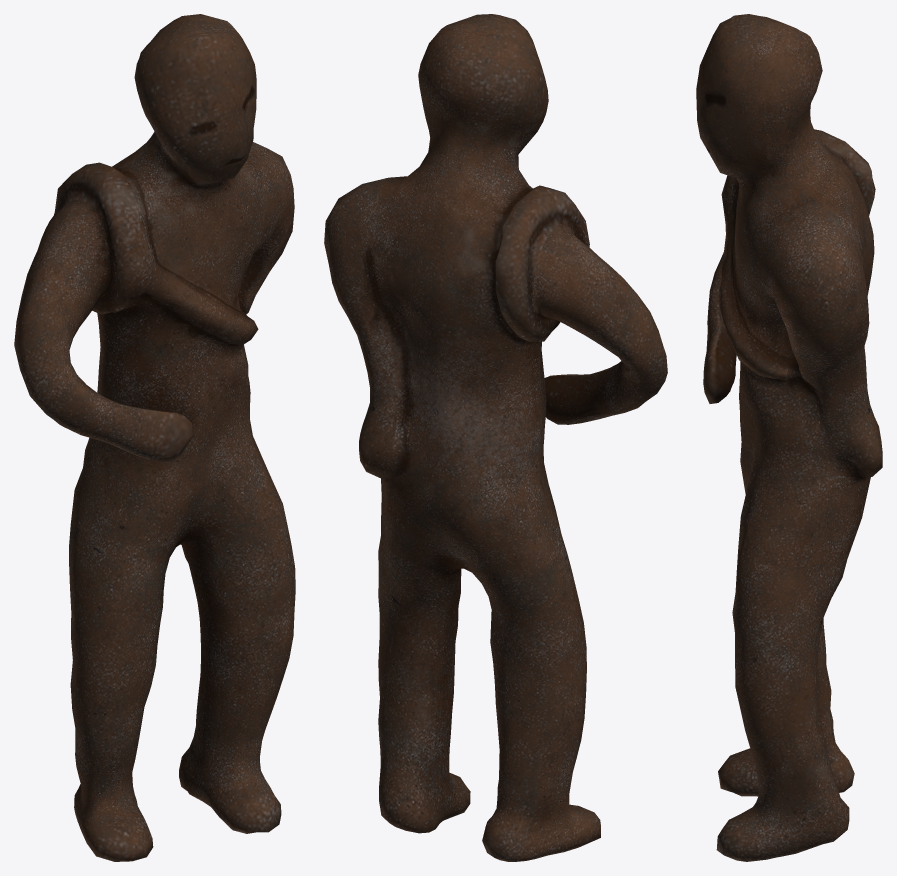
3 views of the same model, side by side, from view 1: azimuth 30°, elevation 25°; view 2: azimuth 150°, elevation 25°; view 3: azimuth 270°, elevation 25° (orthographic).
Parts seen in each view (by area): view 1: SM_AR10004_low; view 2: SM_AR10004_low; view 3: SM_AR10004_low.
Part boxes in pixels (<box>): SM_AR10004_low: <box>14,14,295,861</box>; SM_AR10004_low: <box>324,14,667,861</box>; SM_AR10004_low: <box>696,14,882,861</box>.
Size of the model in its own units: 4.09 by 10.42 by 2.17.
1 material, 1 textured.
